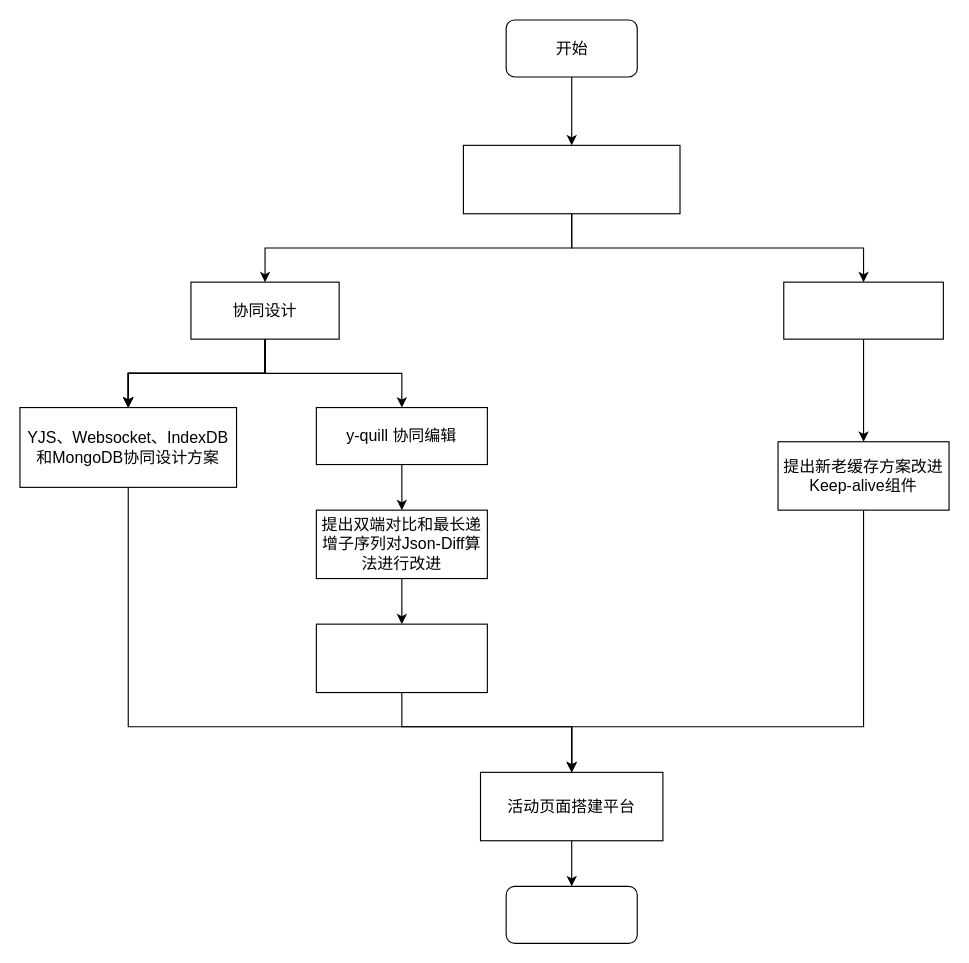
Some shapes in this 969 by 963 pixel diagram are drawn without their labels. Here are the shapes that lost their labels. From the top down, the centre of each, then its label:
At (571,179): "F 电商企业快速创建 营销活动页面".
At (863,310): "提高用户体验".
At (401,658): "实现 Y- VUE -JSON 数据工具".
At (571,914): "结束".
